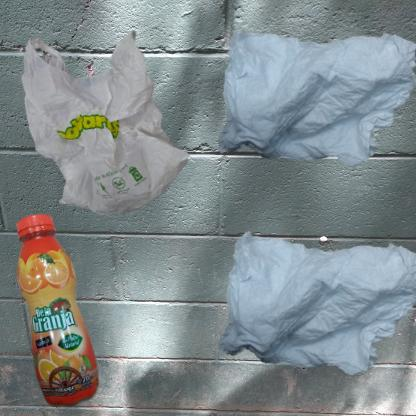bolsa: (10, 10, 209, 243)
botella: (10, 213, 105, 412)
papel: (213, 213, 416, 401), (213, 10, 416, 185)
